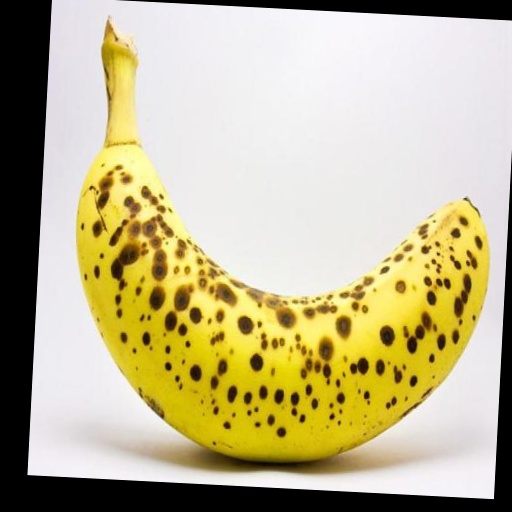fruit: (76, 21, 488, 461)
